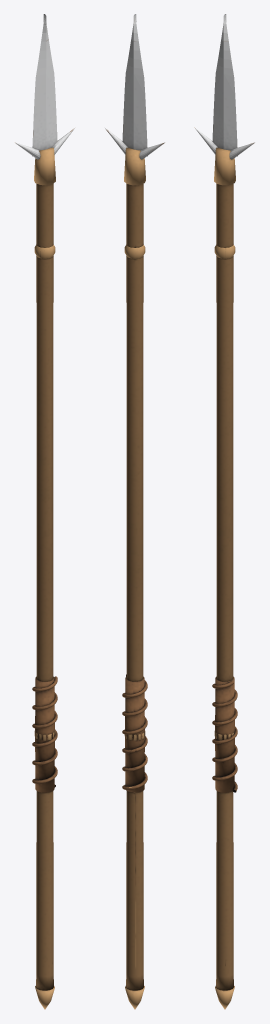
Rendered from arma_lanca_refinada.glb.
3 views of the same model, side by side, from view 1: azimuth 30°, elevation 25°; view 2: azimuth 150°, elevation 25°; view 3: azimuth 330°, elevation 25° (orthographic).
Visible parts, largest first — view 1: arma_lanca_refinada; view 2: arma_lanca_refinada; view 3: arma_lanca_refinada.
Boxes of the visible parts, x1=… form: arma_lanca_refinada: x1=15, y1=14, x2=75, y2=1009; arma_lanca_refinada: x1=104, y1=14, x2=164, y2=1009; arma_lanca_refinada: x1=194, y1=14, x2=254, y2=1009.
Size of the model in its own units: 0.14 by 2.16 by 0.0504.
1 material, 1 textured.
